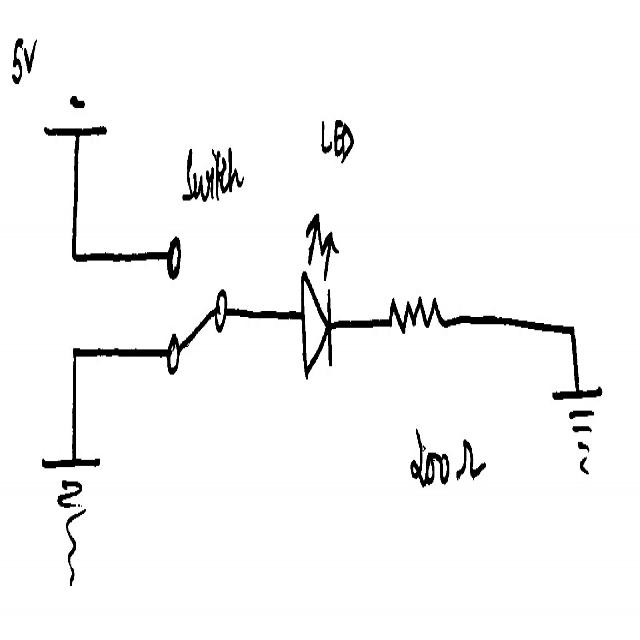diode: (299, 210, 341, 382)
ground: (41, 450, 102, 586), (550, 378, 602, 478)
junction: (69, 339, 82, 375), (69, 238, 82, 273), (567, 319, 577, 347)
resistor: (386, 292, 444, 336)
source: (44, 88, 107, 146)
switch: (165, 234, 228, 377)
text: (408, 421, 487, 491), (182, 146, 244, 204), (320, 114, 354, 169), (11, 35, 37, 86)
